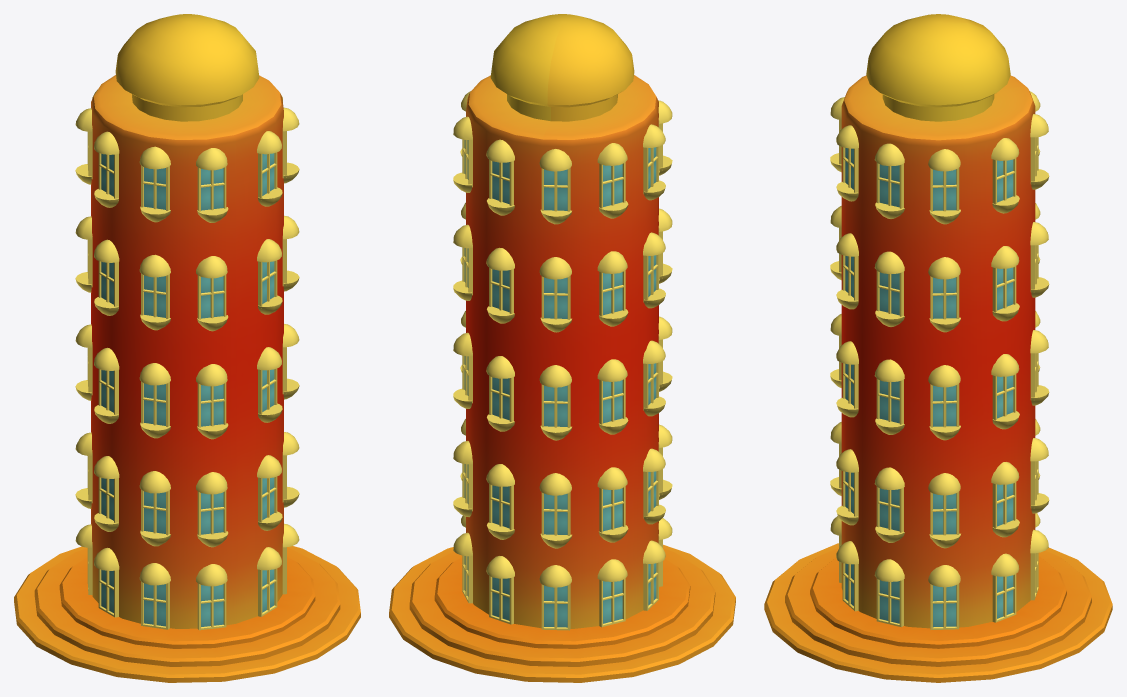
Rendered from SM_Skyscraper_33.fbx.
The picture shows the model from 3 angles, left to right: view 1: azimuth 30°, elevation 25°; view 2: azimuth 150°, elevation 25°; view 3: azimuth 270°, elevation 25°; orthographic projection.
Parts seen in each view (by area): view 1: SM_Skyscraper_33; view 2: SM_Skyscraper_33; view 3: SM_Skyscraper_33.
Part boxes in pixels (bbox=[...]): SM_Skyscraper_33: bbox=[14, 14, 360, 682]; SM_Skyscraper_33: bbox=[389, 14, 735, 682]; SM_Skyscraper_33: bbox=[764, 14, 1112, 682].
Bounding box in the file's own units: 1329 × 2470 × 1329.
